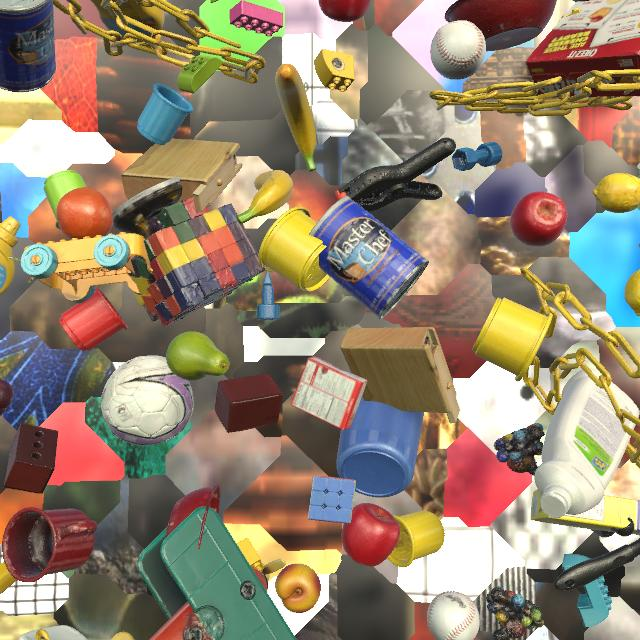ycb_002_master_chef_can: (309, 196, 429, 319), (0, 0, 56, 92)
ycb_003_cracker_box: (525, 0, 640, 98)
ycb_004_sugar_box: (530, 490, 640, 535)
ycb_006_mustard_bottle: (91, 0, 165, 49), (0, 216, 21, 295)
ycb_009_gelatin_box: (290, 356, 368, 430)
ycb_011_banana: (275, 63, 316, 172), (237, 170, 293, 224), (0, 562, 17, 594)
ycb_013_apple: (342, 503, 400, 567), (510, 191, 567, 247), (318, 0, 371, 22)
ycb_014_lemon: (592, 173, 640, 213), (624, 270, 640, 316)
ycb_015_peach: (275, 563, 321, 613)
ycb_016_pear: (166, 331, 230, 381)
ycb_017_orange: (56, 187, 113, 239)
ycb_018_plum: (0, 379, 14, 416)
